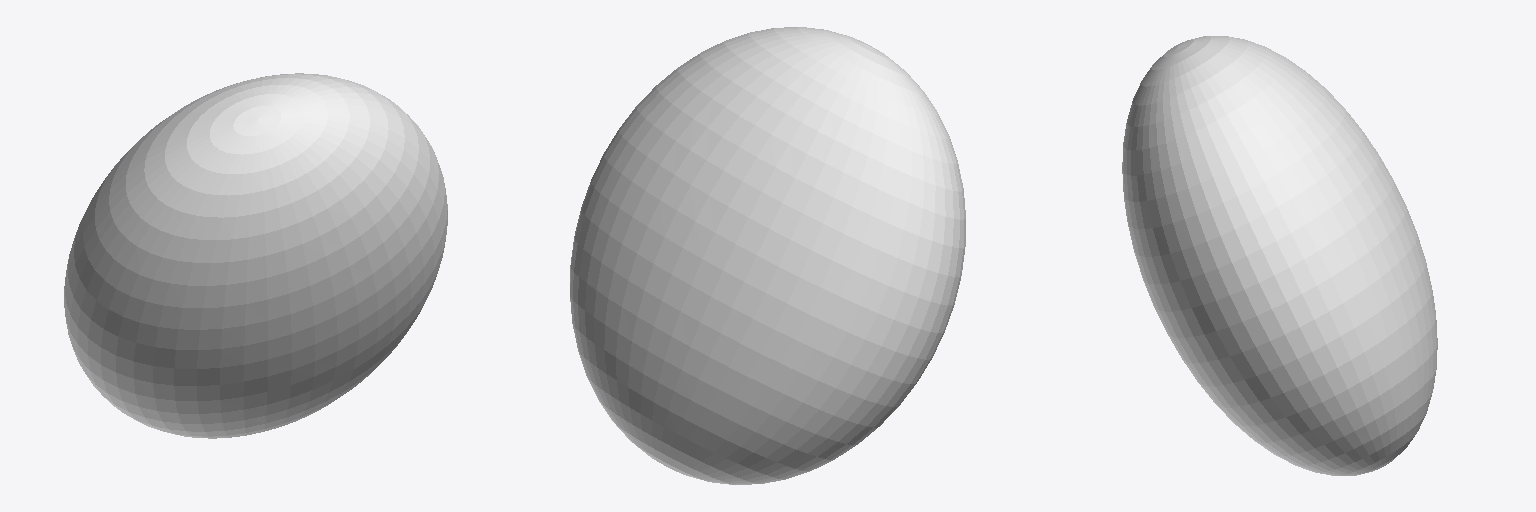
The model's file is WhiteEyeR.obj.
3 renders of one model, left to right at view 1: azimuth 30°, elevation 25°; view 2: azimuth 150°, elevation 25°; view 3: azimuth 270°, elevation 25°, orthographic.
Parts seen in each view (by area): view 1: Righteyewhitehighlight1; view 2: Righteyewhitehighlight1; view 3: Righteyewhitehighlight1.
Boxes of the visible parts, x1=… form: Righteyewhitehighlight1: x1=64, y1=73, x2=447, y2=438; Righteyewhitehighlight1: x1=570, y1=27, x2=965, y2=484; Righteyewhitehighlight1: x1=1122, y1=36, x2=1437, y2=475.
Bounding box in the file's own units: 1.61 × 1.7 × 1.23.